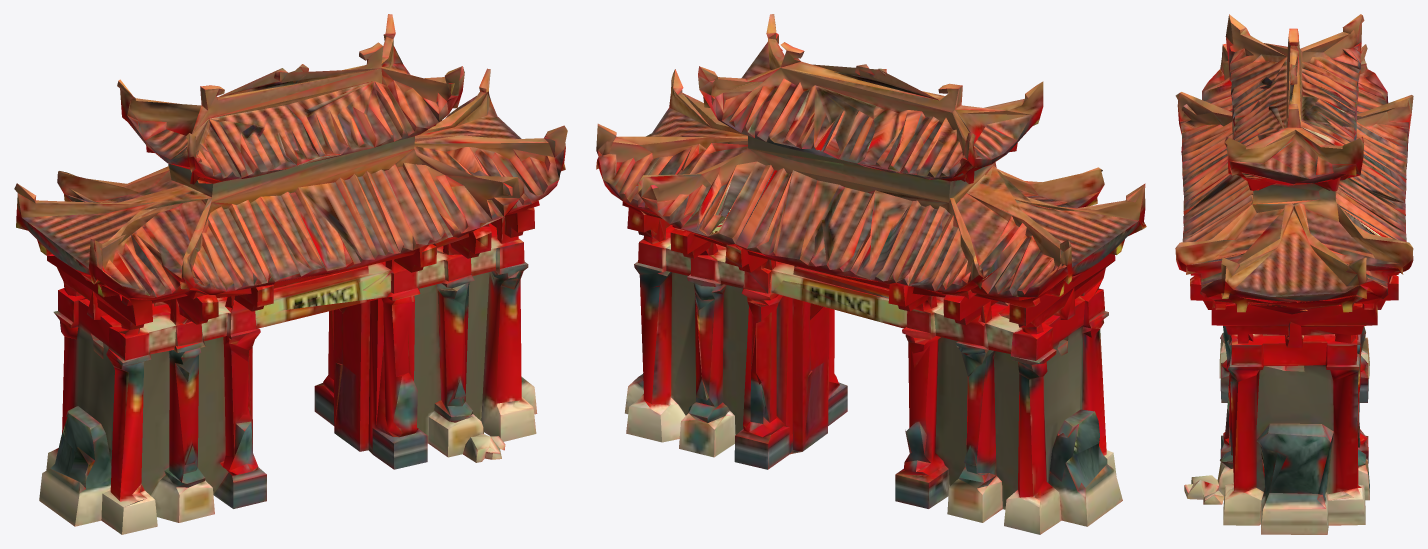
The model's file is paifang-gate.glb.
3 renders of one model, left to right at view 1: azimuth 30°, elevation 25°; view 2: azimuth 150°, elevation 25°; view 3: azimuth 270°, elevation 25°, orthographic. The views are drawn at different scales.
Bounding box in the file's own units: 1.89 × 1.49 × 0.8851.
1 material, 1 textured.
